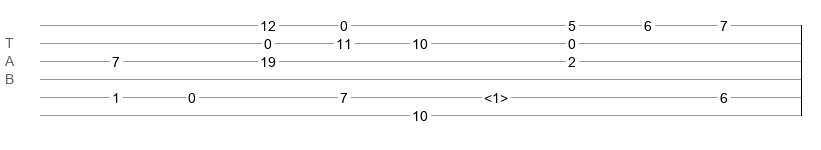0: (188, 90, 196, 100), (264, 36, 272, 46), (340, 18, 348, 28), (568, 36, 576, 46)
1: (112, 90, 120, 100)
10: (412, 108, 428, 118), (412, 36, 428, 46)
11: (336, 36, 352, 46)
12: (260, 18, 276, 28)
19: (260, 54, 276, 64)
2: (568, 54, 576, 64)
5: (568, 18, 576, 28)
6: (644, 18, 652, 28), (720, 90, 728, 100)
7: (112, 54, 120, 64), (340, 90, 348, 100), (720, 18, 728, 28)
harmonic: (484, 90, 508, 100)
